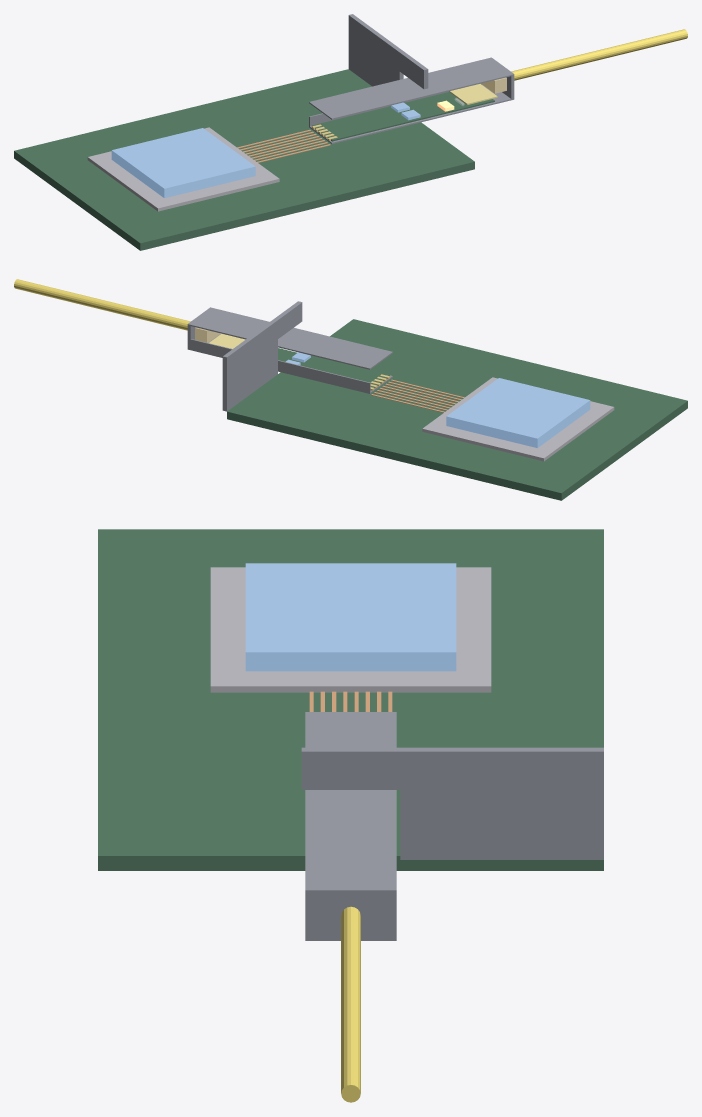
The model's file is laser_overview.glb.
The picture shows the model from 3 angles, top to bottom: view 1: azimuth 30°, elevation 25°; view 2: azimuth 150°, elevation 25°; view 3: azimuth 270°, elevation 25°; orthographic projection. The views are drawn at different scales.
Visible parts, largest first — view 1: board, asic, lid.001, substrate, pcb, panel_low, cable, tray_floor, panel_high, ribbon; view 2: board, asic, lid.001, panel_low, substrate, cable, tray_back, pcb, panel_high; view 3: board, asic, panel_low, substrate, lid.001, panel_high, tray_end, cable.
Part boxes in pixels (<box>): board: <box>14,69,474,250</box>; asic: <box>111,128,255,198</box>; lid.001: <box>309,57,514,119</box>; substrate: <box>87,127,279,211</box>; pcb: <box>312,92,494,141</box>; panel_low: <box>348,14,403,86</box>; cable: <box>511,29,687,80</box>; tray_floor: <box>309,84,513,143</box>; panel_high: <box>399,51,428,89</box>; ribbon: <box>449,84,497,104</box>; board: <box>227,319,687,500</box>; asic: <box>446,378,590,447</box>; lid.001: <box>187,307,392,369</box>; panel_low: <box>222,319,277,411</box>; substrate: <box>422,377,614,461</box>; cable: <box>14,279,190,330</box>; tray_back: <box>187,339,370,393</box>; pcb: <box>278,348,389,390</box>; panel_high: <box>274,301,302,338</box>; board: <box>98,529,603,870</box>; asic: <box>245,563,456,671</box>; panel_low: <box>400,747,603,859</box>; substrate: <box>210,567,491,692</box>; lid.001: <box>305,712,396,892</box>; panel_high: <box>301,747,400,789</box>; tray_end: <box>305,887,396,940</box>; cable: <box>341,906,360,1102</box>.
Bounding box in the file's own units: 2000 × 194 × 720.
